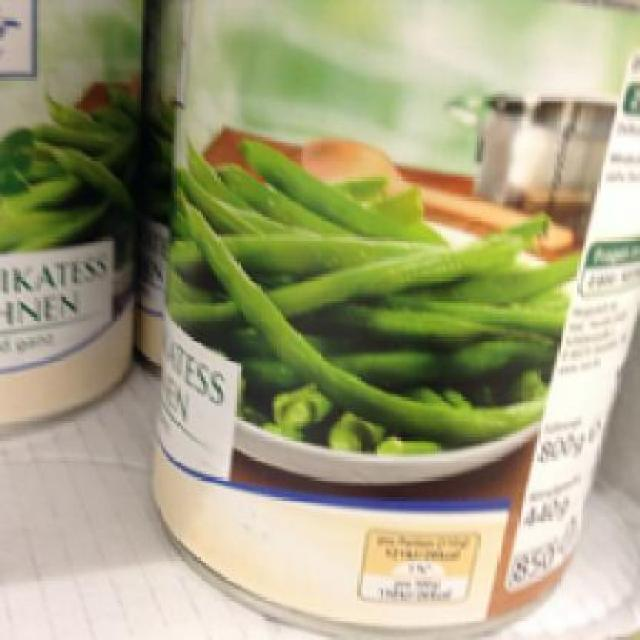Beans: (153, 0, 638, 635)
